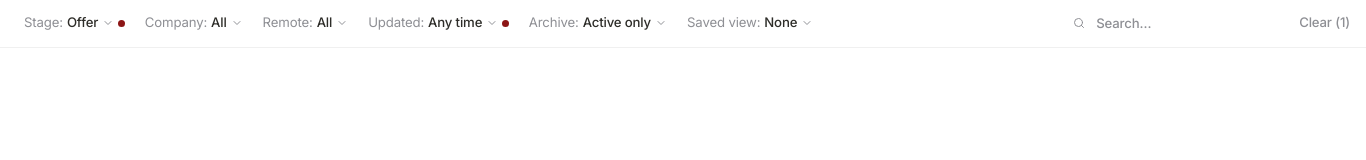
FilterBar › should show Clear when filters are active and clear them on click
Click the button with aria-label "Clear 1 filter".
click(1325, 23)  # box left=1299, top=16, right=1350, bottom=31
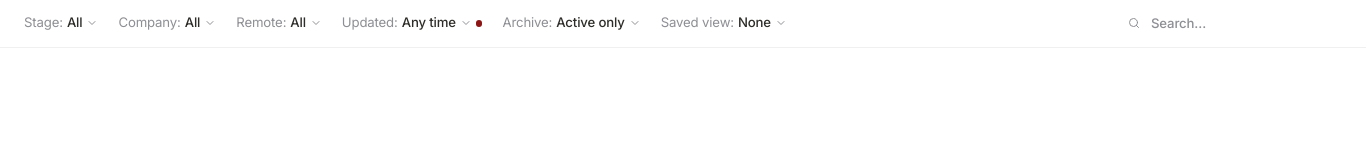
Check: the button "Stage: All" is shown, box left=16, top=8, right=106, bottom=39
